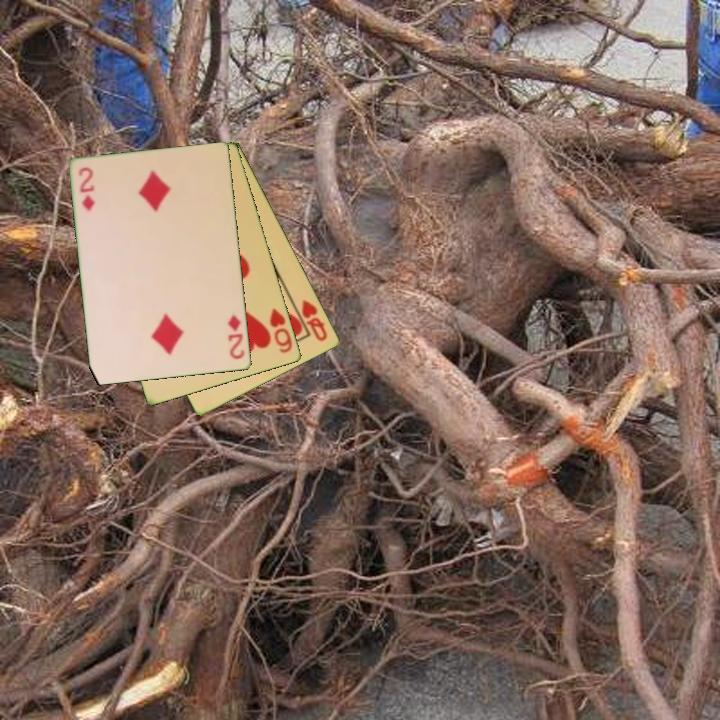2d: (224, 311, 248, 362), (75, 164, 98, 214)
6h: (266, 305, 295, 356)
Qh: (298, 296, 331, 344)
